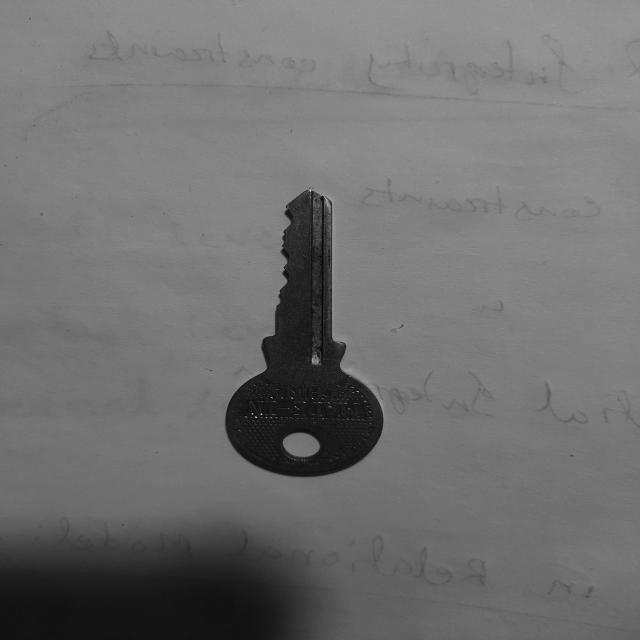KEY: (225, 191, 383, 476)
